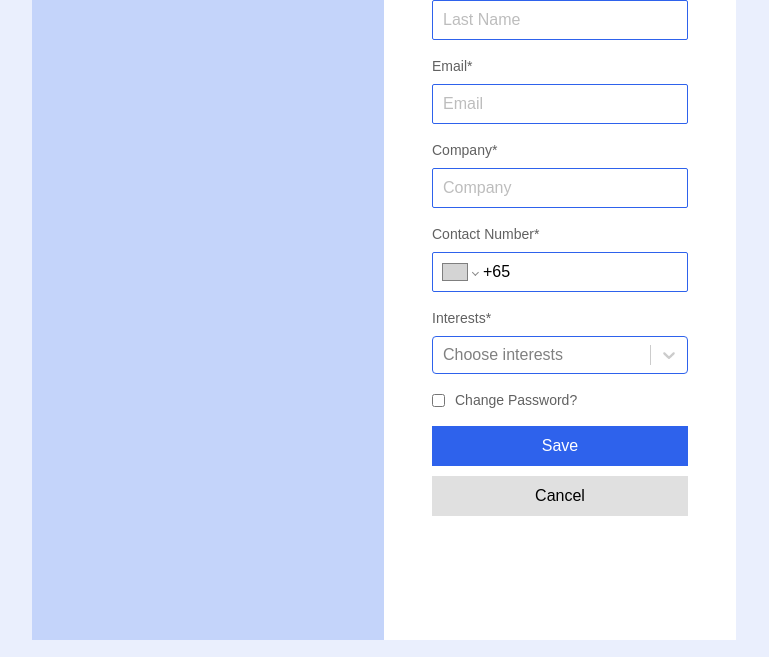
it: Testing Routing › Going back to EDIT_USER_PROFILE page upon clicking on cancel button navigates back to VIEW_USER_PROFILE page
(page scrolled)
Click the button "Cancel".
click(560, 496)  # box [432,476,688,516]
(page scrolled)
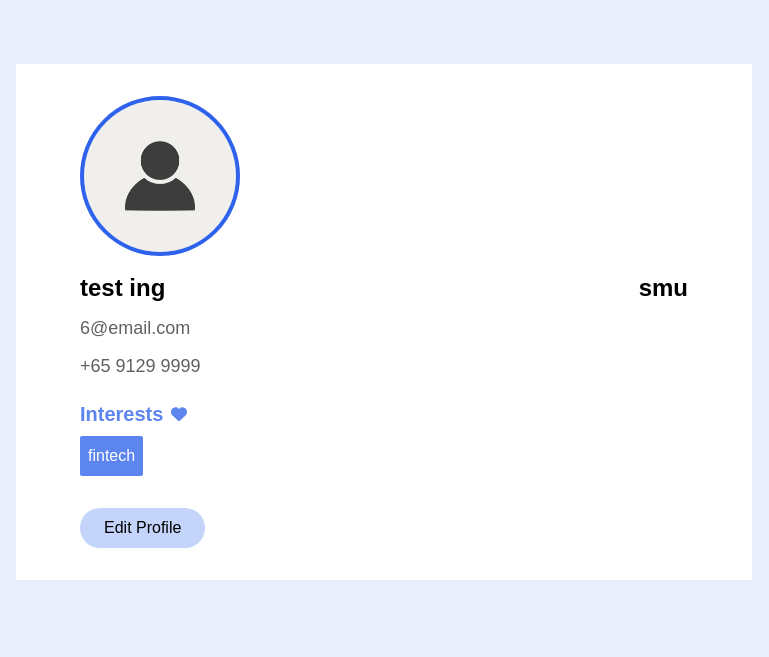
Result: the heading with test id "fullName" reads "test ing" at [80,272,165,314]
Result: the text with test id "email" reads "6@email.com" at [80,318,190,338]
Result: the text with test id "company" reads "smu" at [639,274,688,301]
